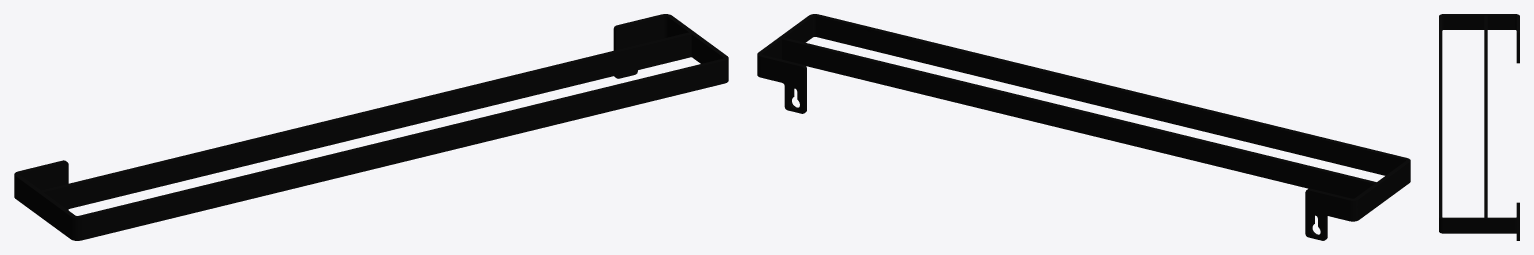
File: skogsviken_drazek_na_recznik_60423822.glb
The picture shows the model from 3 angles, left to right: view 1: azimuth 30°, elevation 25°; view 2: azimuth 150°, elevation 25°; view 3: azimuth 270°, elevation 25°; orthographic projection. The views are drawn at different scales.
Visible parts, largest first — view 1: skogsviken_drazek_na_recznik_60423822; view 2: skogsviken_drazek_na_recznik_60423822; view 3: skogsviken_drazek_na_recznik_60423822.
Boxes of the visible parts, x1,y1,x2,y2 form: skogsviken_drazek_na_recznik_60423822: (14, 14, 728, 240); skogsviken_drazek_na_recznik_60423822: (757, 14, 1410, 240); skogsviken_drazek_na_recznik_60423822: (1439, 14, 1519, 240).
Size of the model in its own units: 0.6 by 0.045 by 0.1.
1 material, 1 textured.
